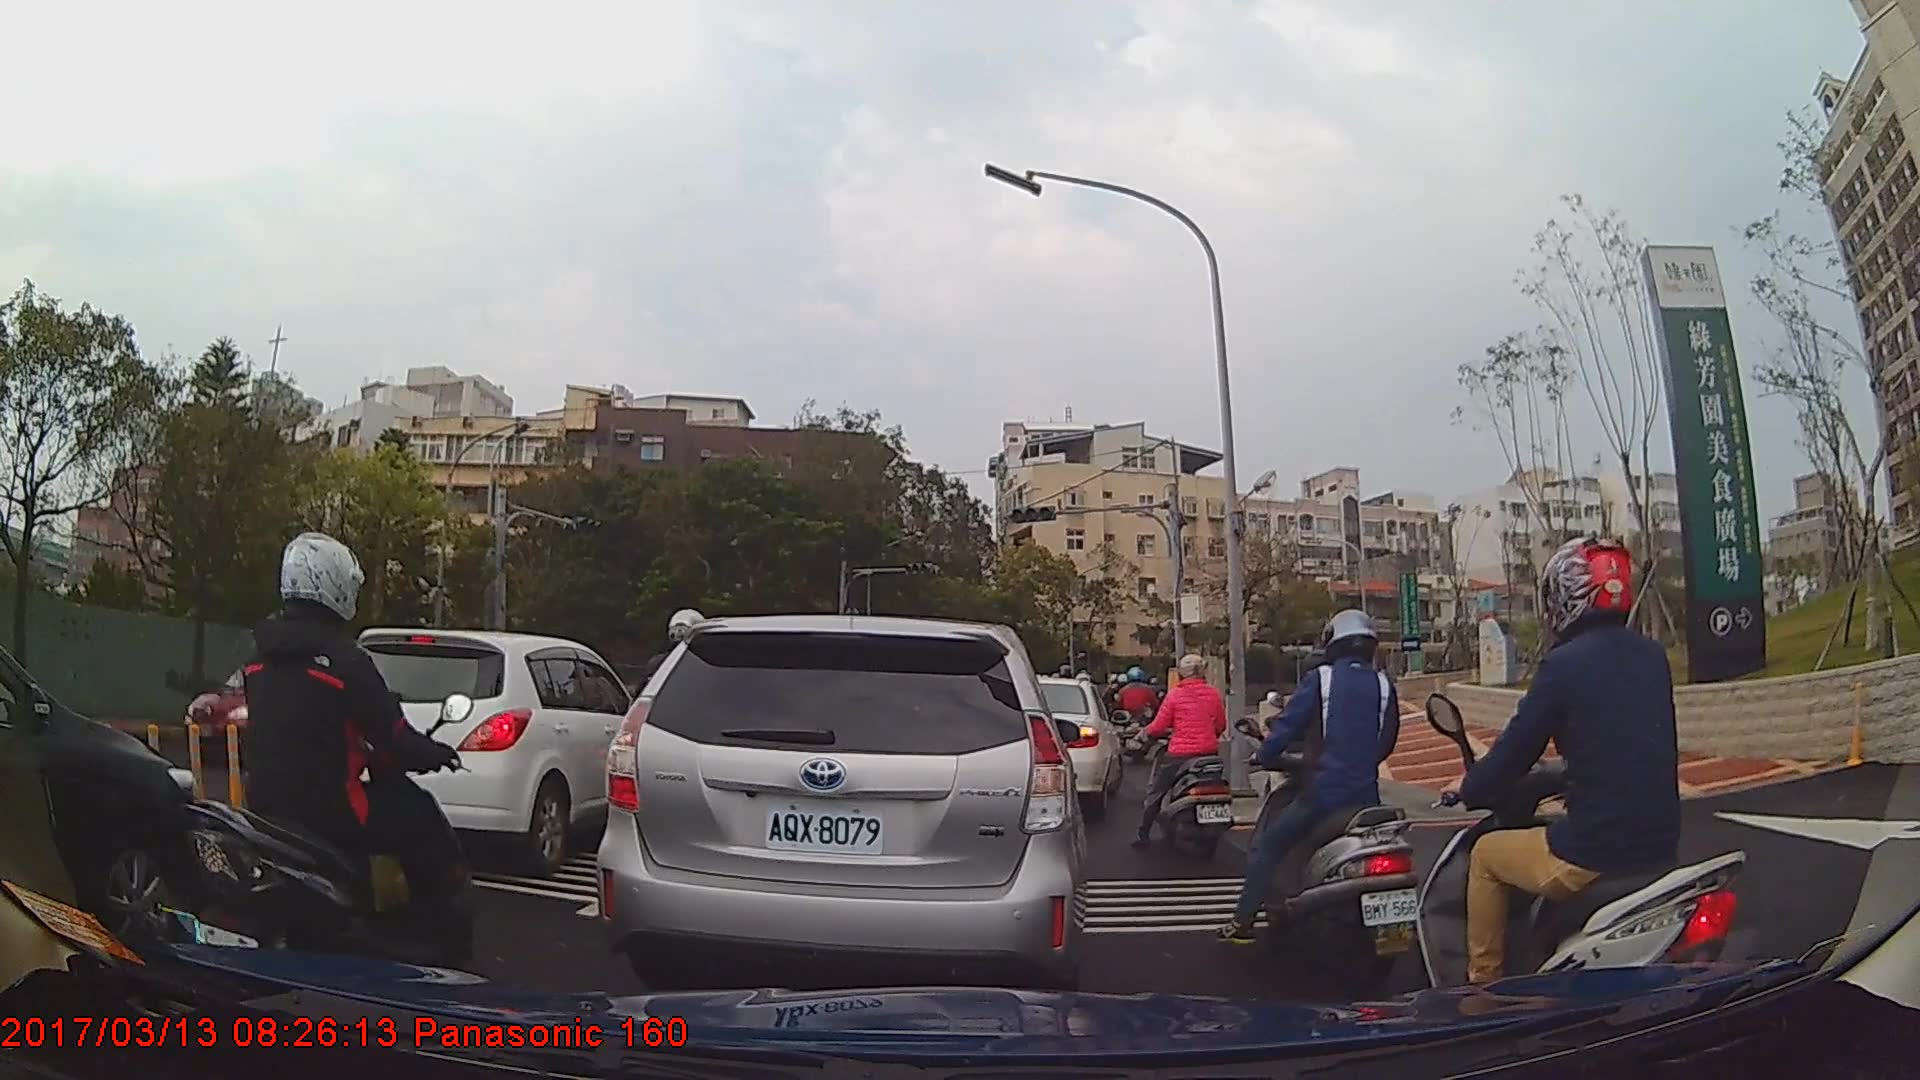rider: (1419, 531, 1748, 1060), (173, 531, 483, 1018), (1242, 612, 1423, 999), (1137, 654, 1238, 864), (1113, 665, 1156, 765)
vehicle: (599, 612, 1089, 1029), (305, 628, 643, 879), (0, 643, 206, 960), (1013, 675, 1122, 812)
